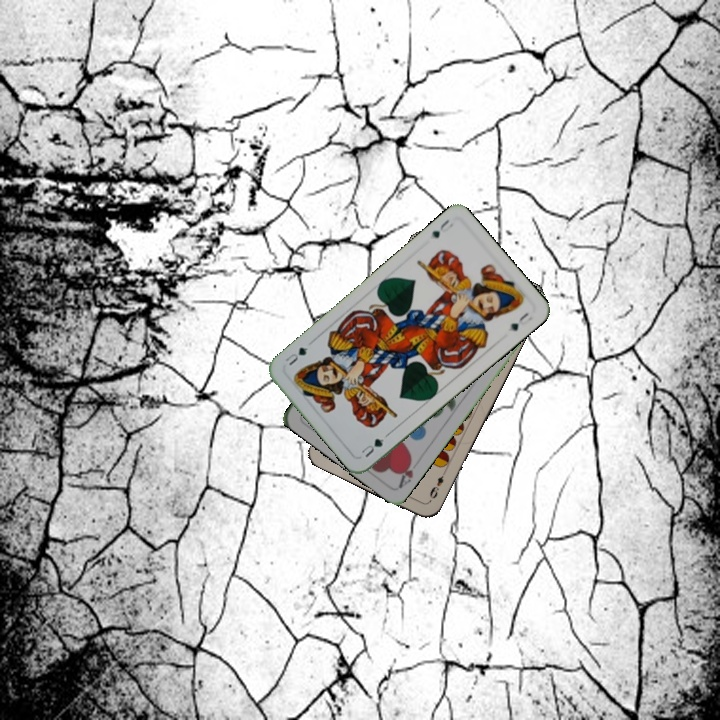E9: (426, 467, 449, 501)
GU: (357, 434, 387, 460), (427, 215, 456, 241)
HA: (394, 452, 416, 491)
